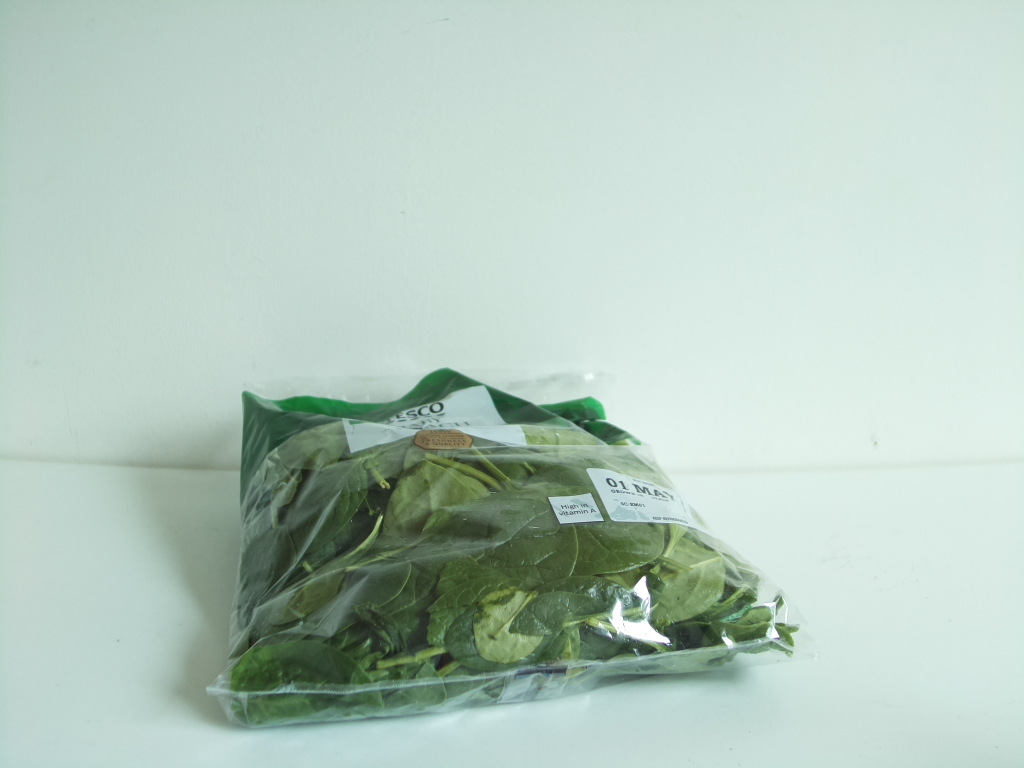salad: (212, 370, 798, 733)
